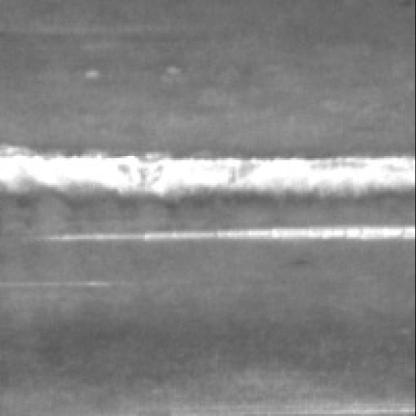scratches: (2, 144, 416, 212), (27, 225, 416, 248)
